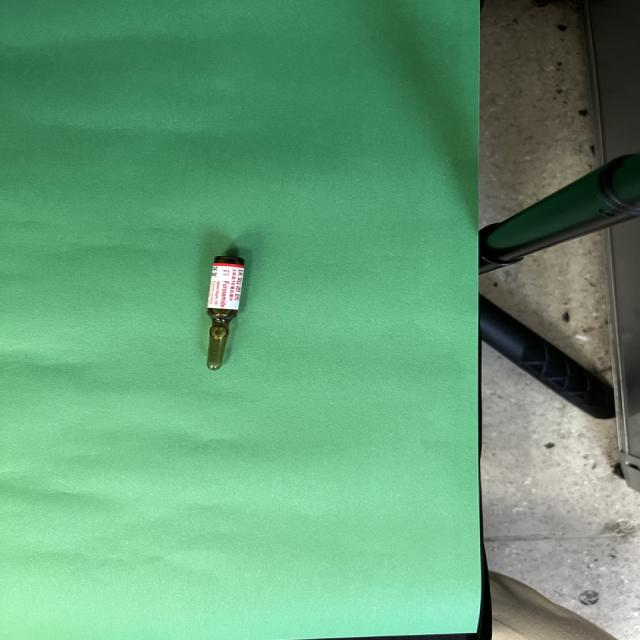Ampoules: (207, 256, 245, 370)
